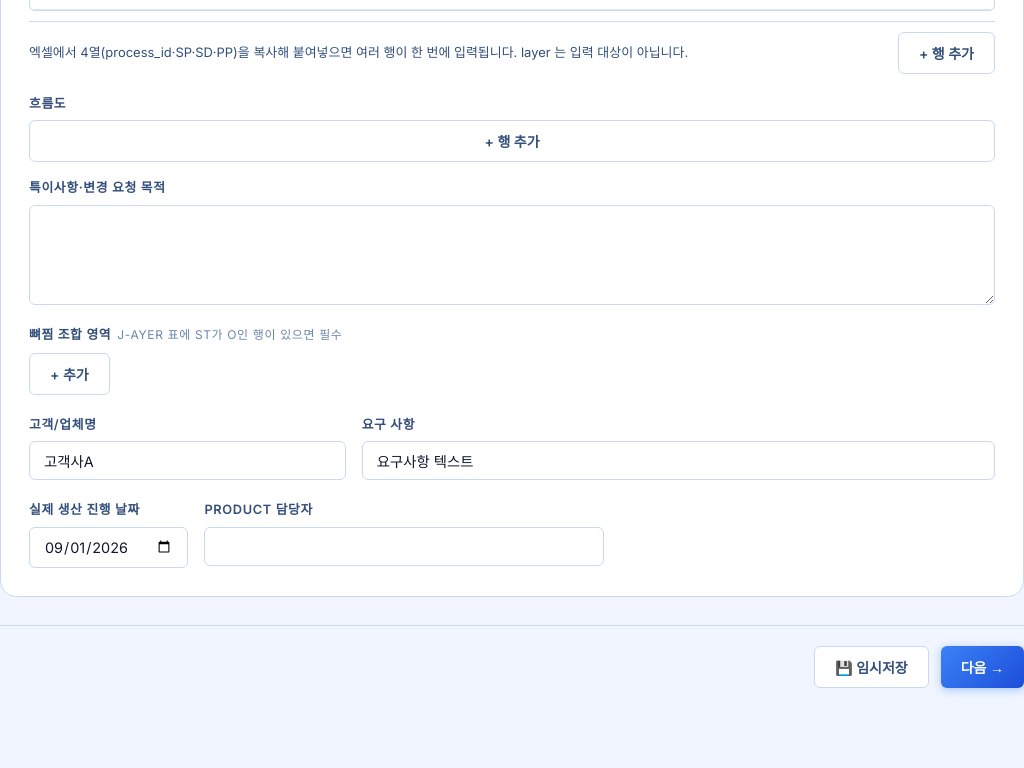
'Overlay만 변경' — 참조 요청서 필수 › '있음'으로 Merge 했어도 변경전/변경후 유효 행이 0건이면 막는다
(page scrolled)
Expected: the field showing "고객사A" below "고객/업체명" is shown, 29,442 -> 346,480
What coordinates should you click on to do the following:
click the button "다음 →"
I would click on:
 (982, 667)
Its box is 941,646 -> 1023,688.
(page scrolled)
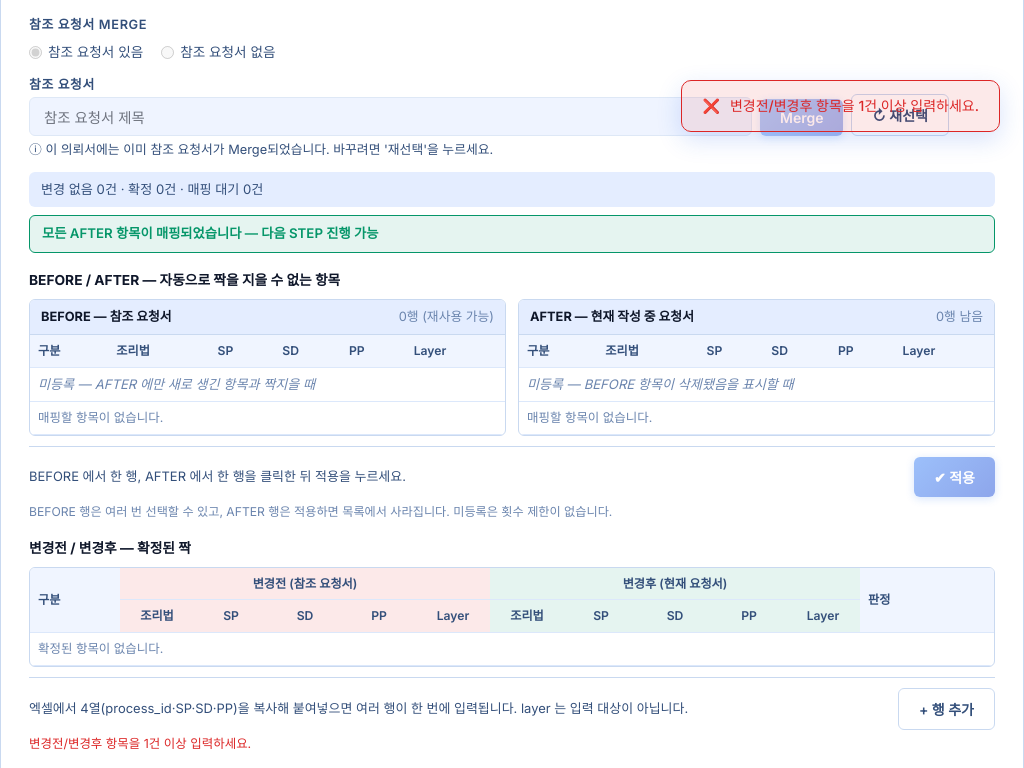
Expected: the element with class "toast-error" shows "변경전/변경후 항목을 1건 이상 입력하세요.", 730,97 -> 979,114
